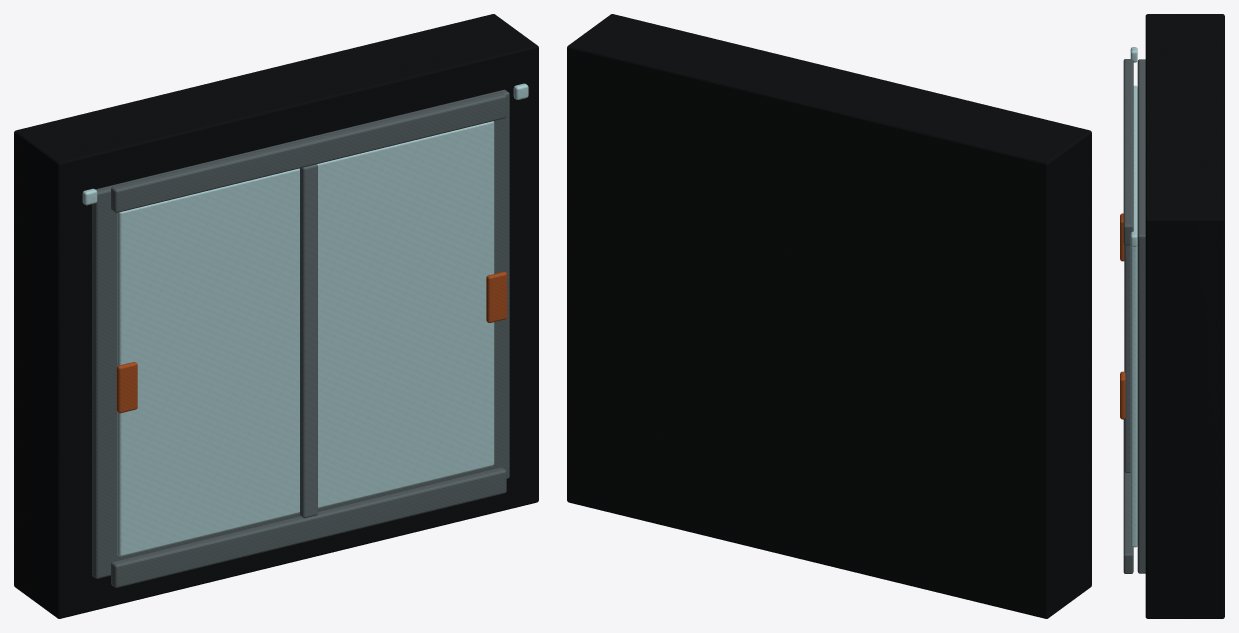
File: ObservationWindow.fbx
3 views of the same model, side by side, from view 1: azimuth 30°, elevation 25°; view 2: azimuth 150°, elevation 25°; view 3: azimuth 270°, elevation 25° (orthographic). The views are drawn at different scales.
Parts seen in each view (by area): view 1: ObservationWindow_Mesh; view 2: ObservationWindow_Mesh; view 3: ObservationWindow_Mesh.
Part boxes in pixels (x1,y1,x2,y2): ObservationWindow_Mesh: [14, 14, 538, 618]; ObservationWindow_Mesh: [567, 14, 1091, 618]; ObservationWindow_Mesh: [1120, 14, 1224, 618].
Bounding box in the file's own units: 172 × 156 × 37.
